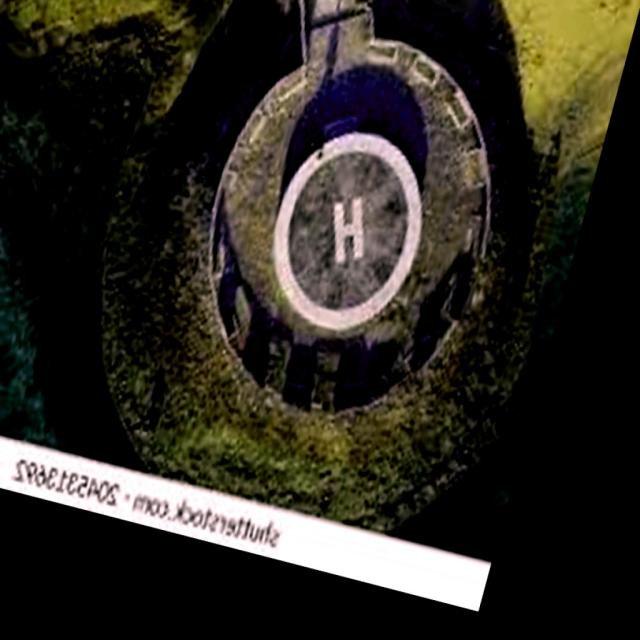helipad: (266, 127, 428, 333)
